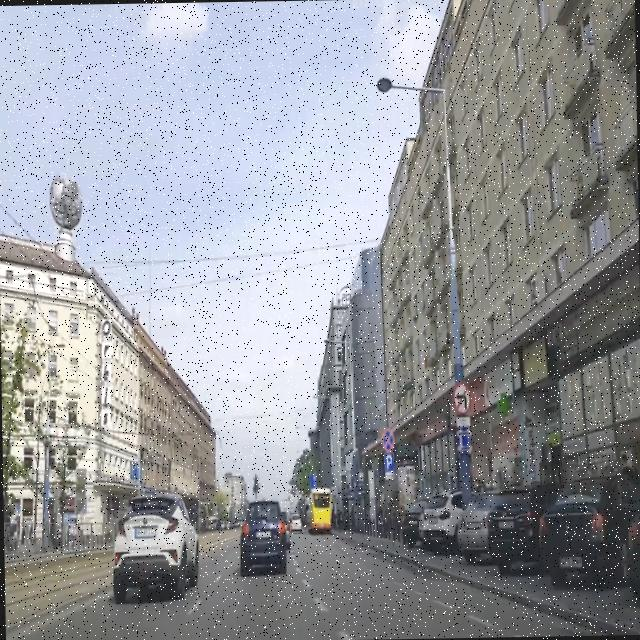Zakaz zatrzymywania sie: (381, 428, 394, 452)
